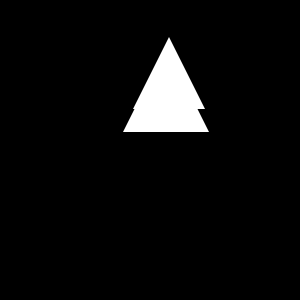triangle: (123, 46, 209, 132), (133, 37, 205, 109)
